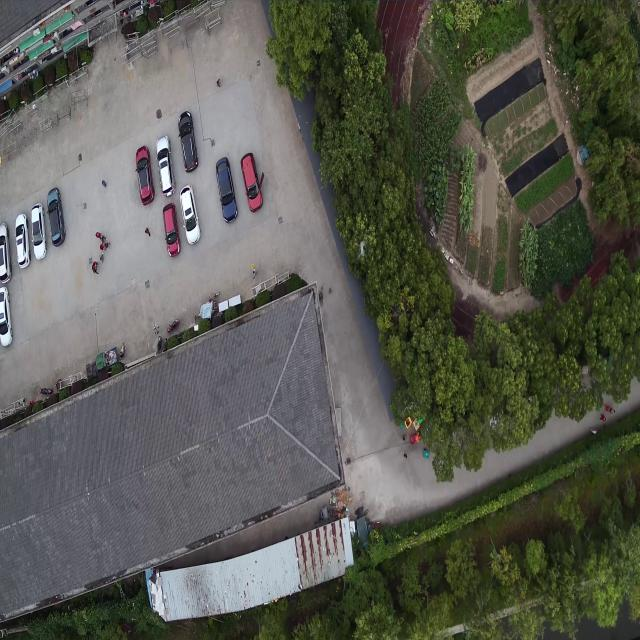UAV: (355, 242, 369, 260)
